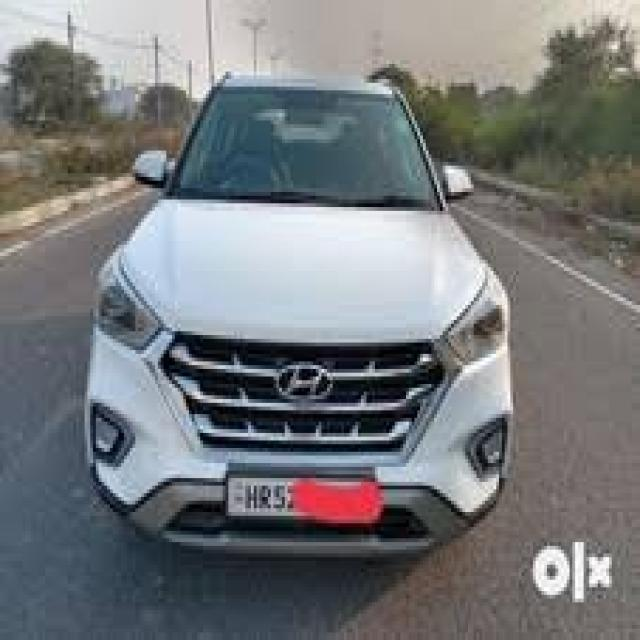SUV: (88, 64, 514, 556)
